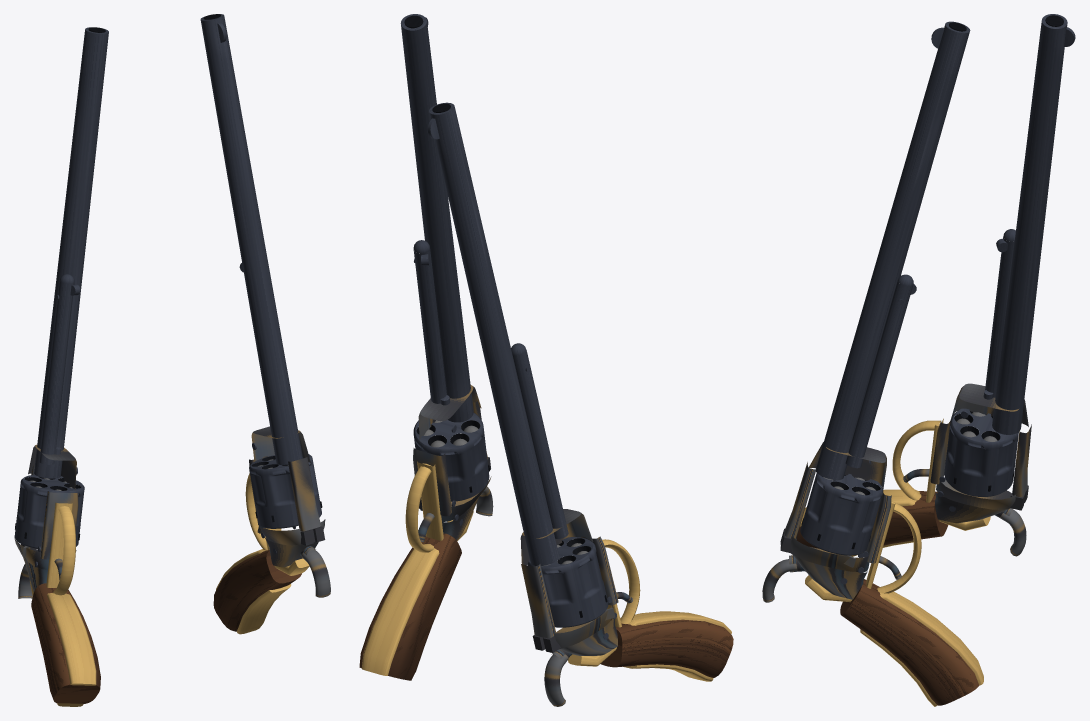
The model's file is gun.buntline.gltf.
3 views of the same model, side by side, from view 1: azimuth 30°, elevation 25°; view 2: azimuth 150°, elevation 25°; view 3: azimuth 270°, elevation 25° (orthographic). The views are drawn at different scales.
Visible parts, largest first — view 1: revolver (×2); view 2: revolver (×2); view 3: revolver (×2).
Part boxes in pixels (x1,y1,x2,y2): revolver (×2): (14, 14, 330, 706); revolver (×2): (359, 14, 733, 706); revolver (×2): (762, 14, 1075, 706).
Bounding box in the file's own units: 0.2389 × 0.5198 × 0.2218.
Materials: 1 (1 with a texture image).
